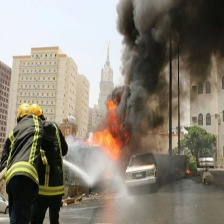fire: (85, 101, 131, 161)
smoke: (111, 1, 224, 139)
